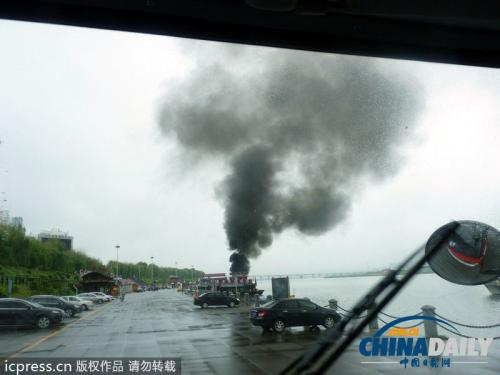smoke: (181, 58, 366, 270)
